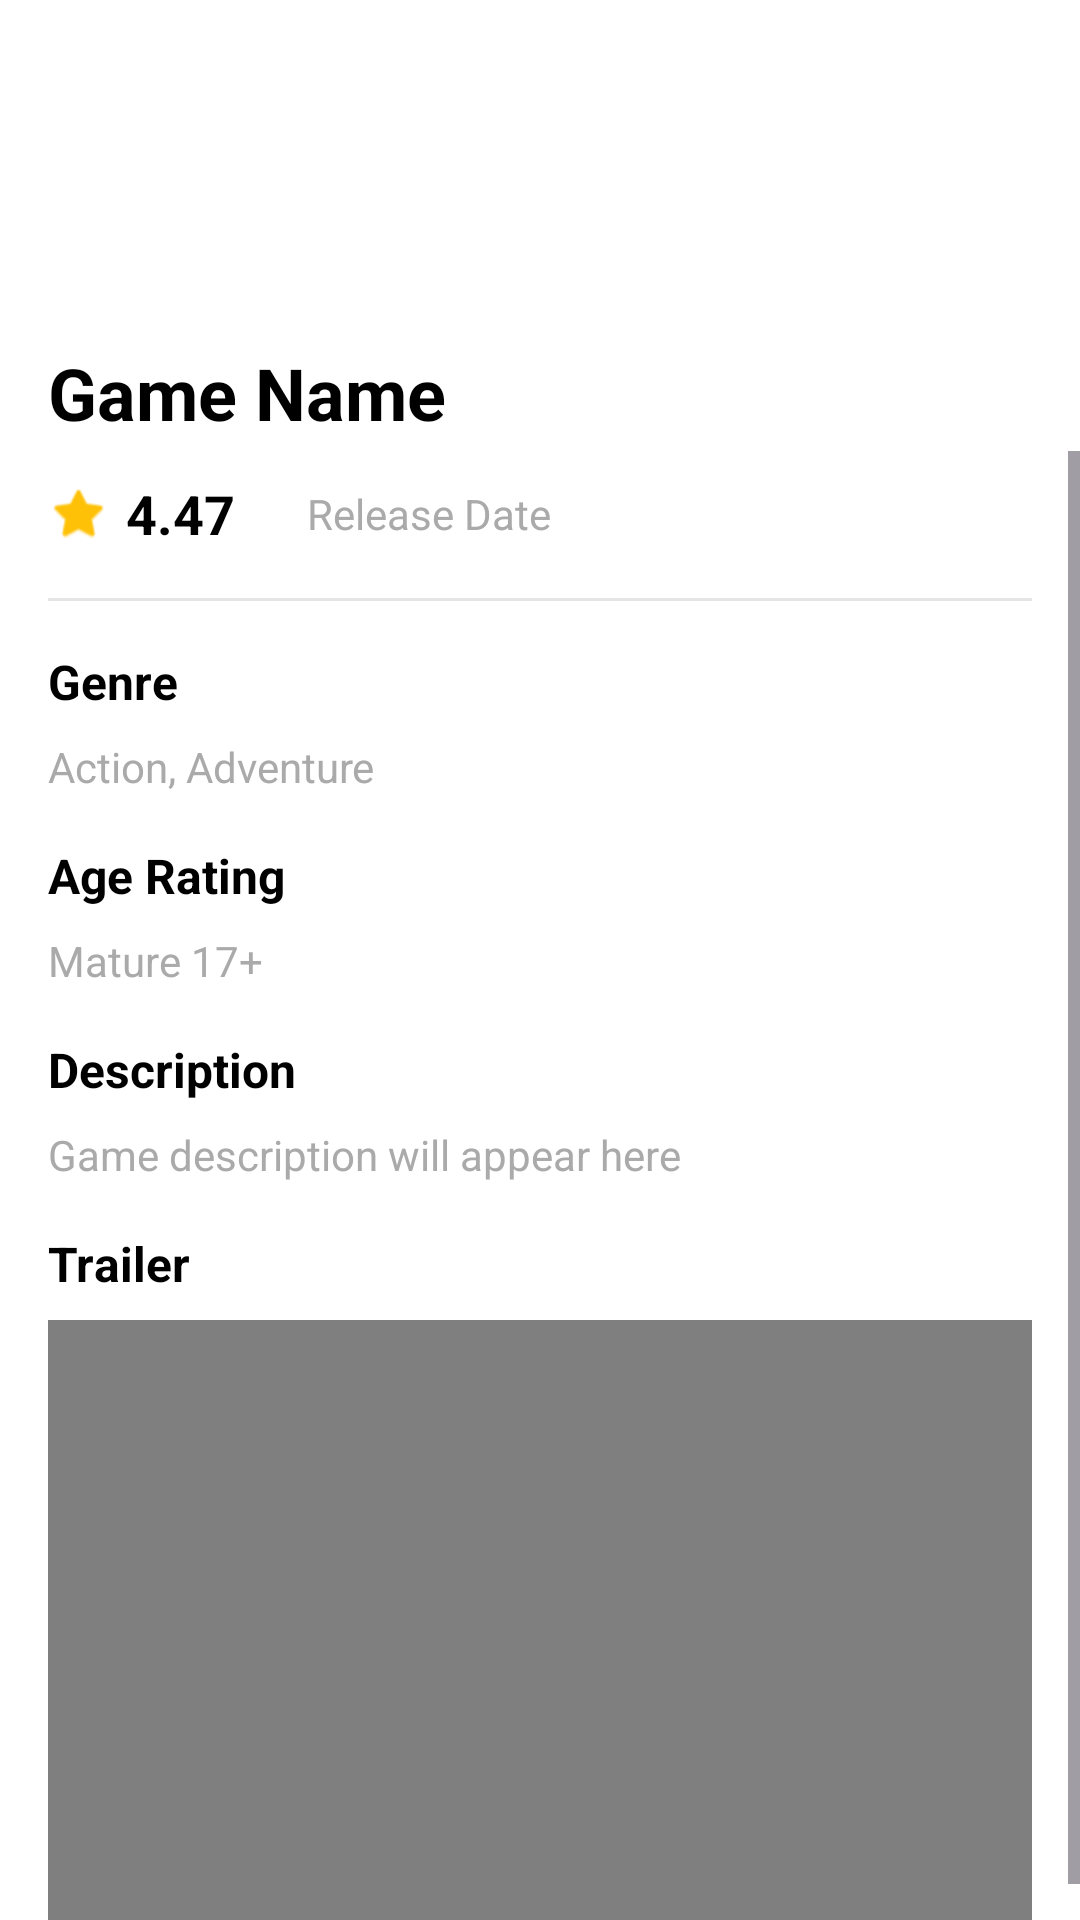

Named icons in this screenshot (1080w x 1920h) and their centers, point (x, y):
Rating star: point (78, 513)
